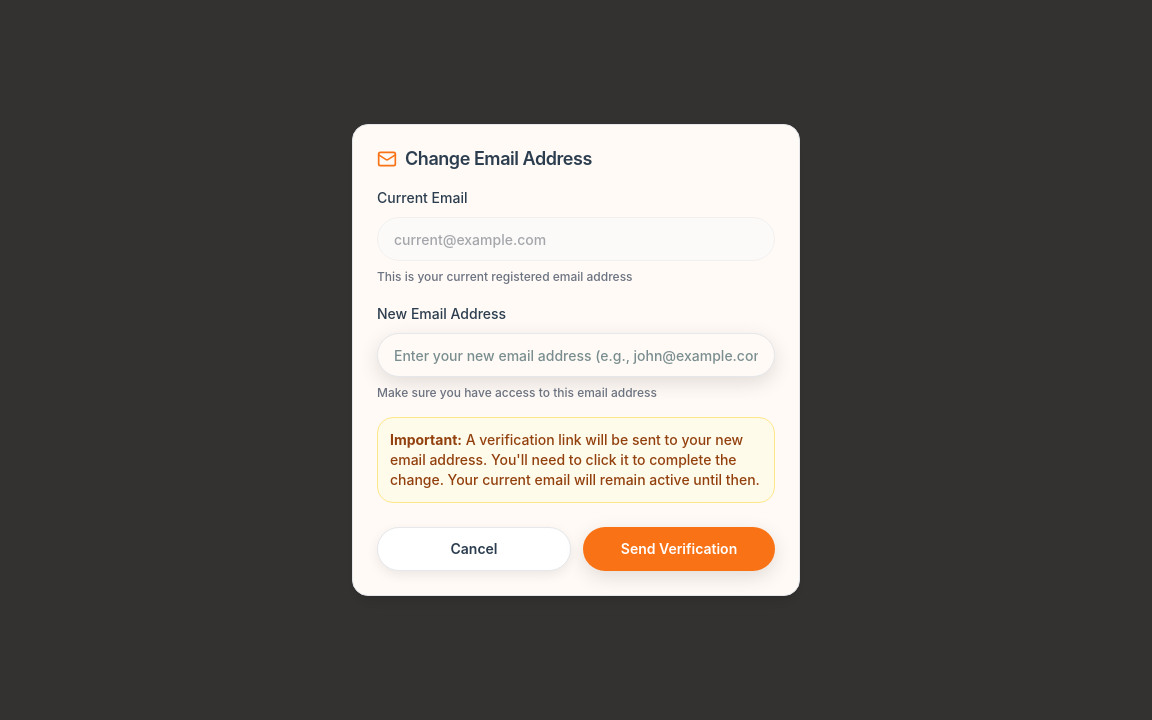
Test: EmailChangeDialog › handles rate limit error
Type "new@example.com" into the field with placeholder "Enter your new email address (e.g., john@example.com)". click: (576, 355)
box: [377, 333, 775, 377]
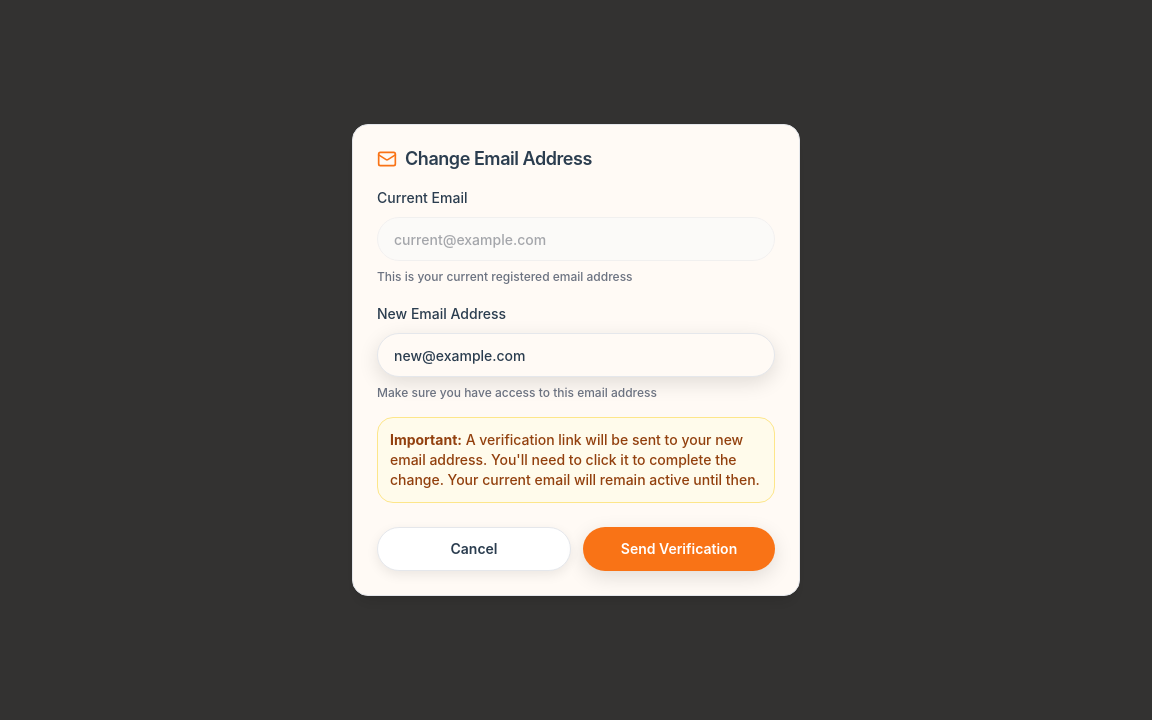
Click the button "Send Verification". click: click(679, 549)
box: [583, 527, 775, 571]
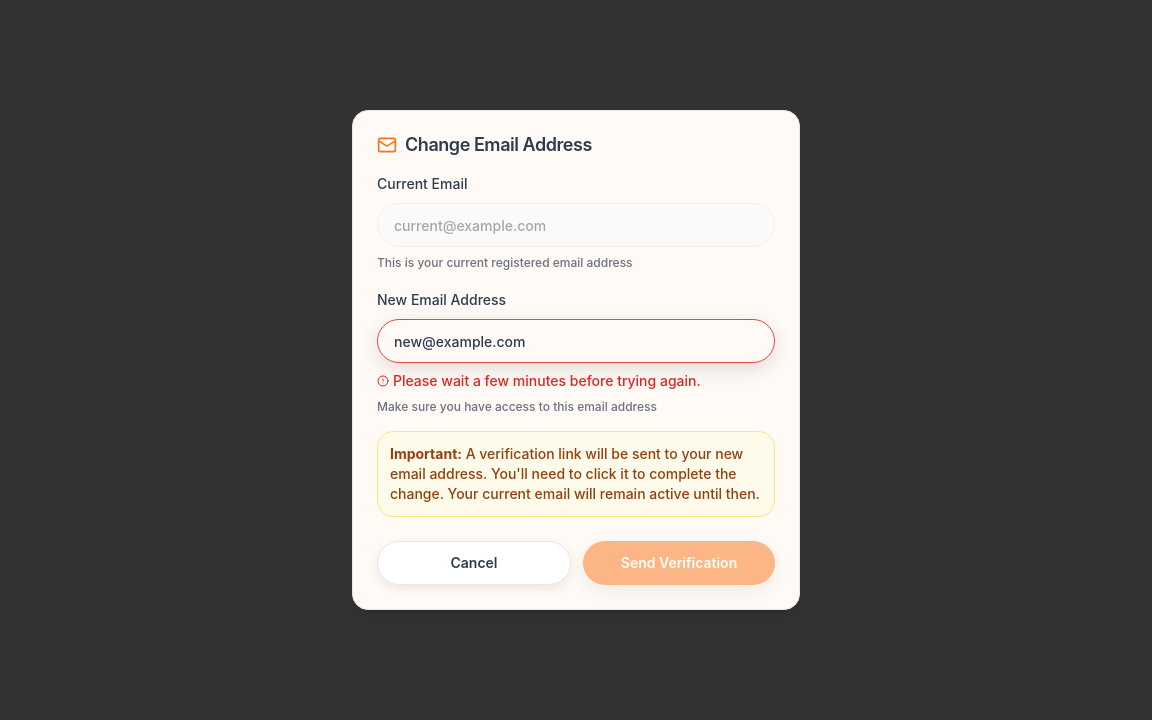
Now the text "Please wait a few minutes before trying again." is shown, box [393, 371, 701, 391]
